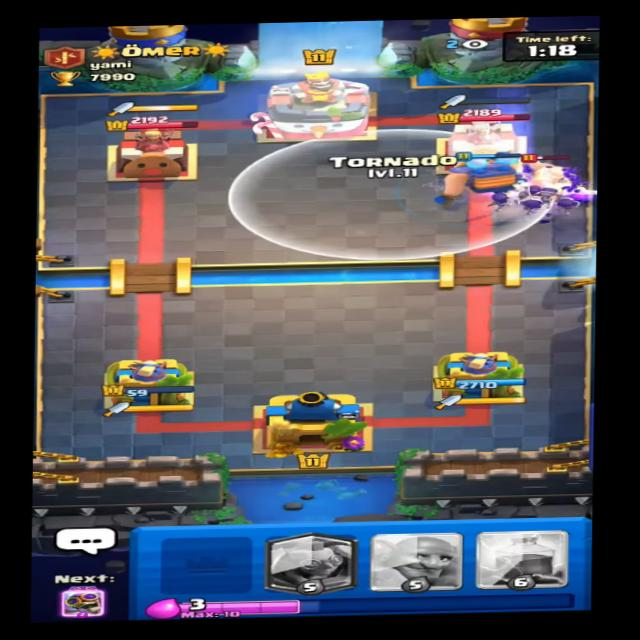prince: (522, 154, 607, 198)
